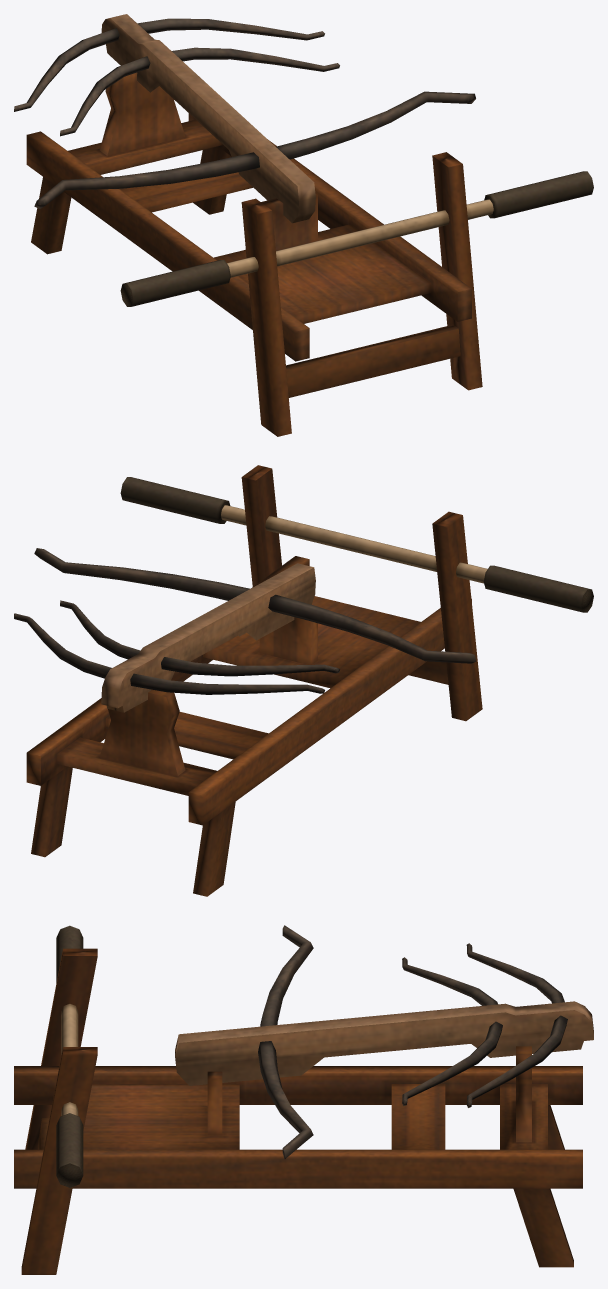
File: weapon.fbx
3 views of the same model, one above another, from view 1: azimuth 30°, elevation 25°; view 2: azimuth 150°, elevation 25°; view 3: azimuth 270°, elevation 25° (orthographic). The views are drawn at different scales.
Visible parts, largest first — view 1: pCube22; view 2: pCube22; view 3: pCube22.
Boxes of the visible parts, bbox=[...] form: pCube22: bbox=[14, 14, 593, 436]; pCube22: bbox=[14, 465, 593, 896]; pCube22: bbox=[14, 925, 593, 1274].
Size of the model in its own units: 32.33 by 13.99 by 33.34.
